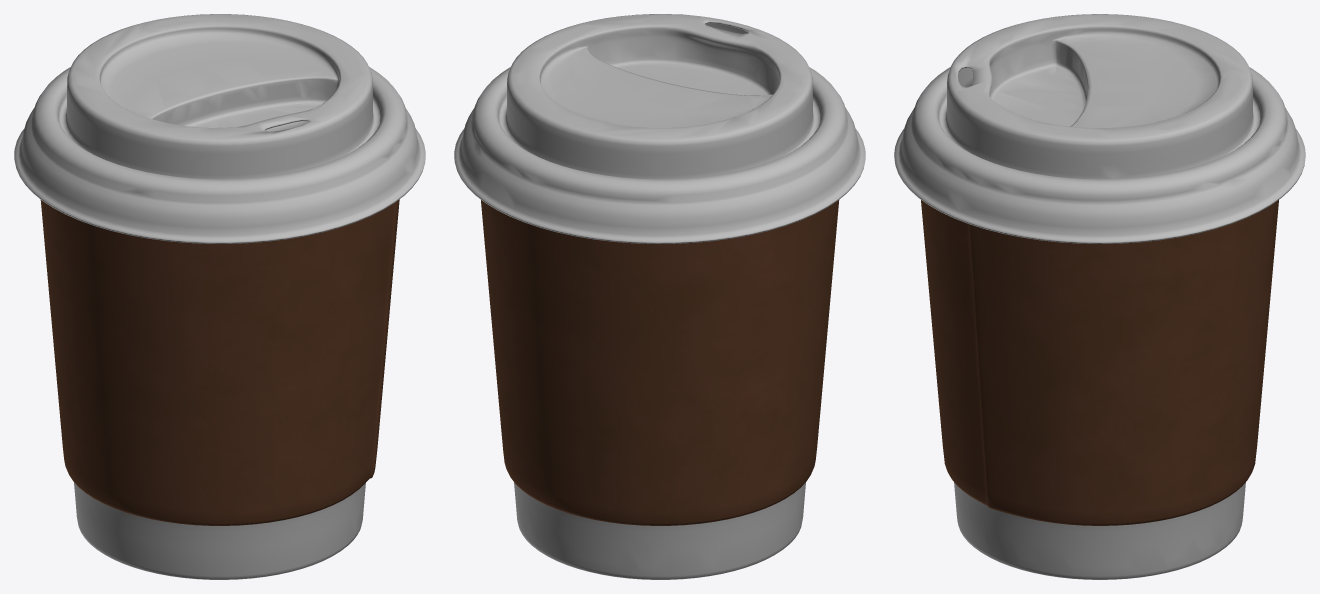
File: cup.glb
3 views of the same model, side by side, from view 1: azimuth 30°, elevation 25°; view 2: azimuth 150°, elevation 25°; view 3: azimuth 270°, elevation 25° (orthographic).
Parts seen in each view (by area): view 1: CupCoffee_CupCoffee2_0, CupCoffee_CupCoffee1_0; view 2: CupCoffee_CupCoffee2_0, CupCoffee_CupCoffee1_0; view 3: CupCoffee_CupCoffee2_0, CupCoffee_CupCoffee1_0.
Part boxes in pixels (x1,y1,x2,y2): CupCoffee_CupCoffee2_0: [40, 199, 399, 525]; CupCoffee_CupCoffee1_0: [14, 14, 425, 579]; CupCoffee_CupCoffee2_0: [481, 200, 839, 525]; CupCoffee_CupCoffee1_0: [454, 14, 865, 579]; CupCoffee_CupCoffee2_0: [921, 200, 1278, 525]; CupCoffee_CupCoffee1_0: [894, 14, 1305, 579].
Bounding box in the file's own units: 1.8 × 2.14 × 1.8.
2 materials, 1 textured.
